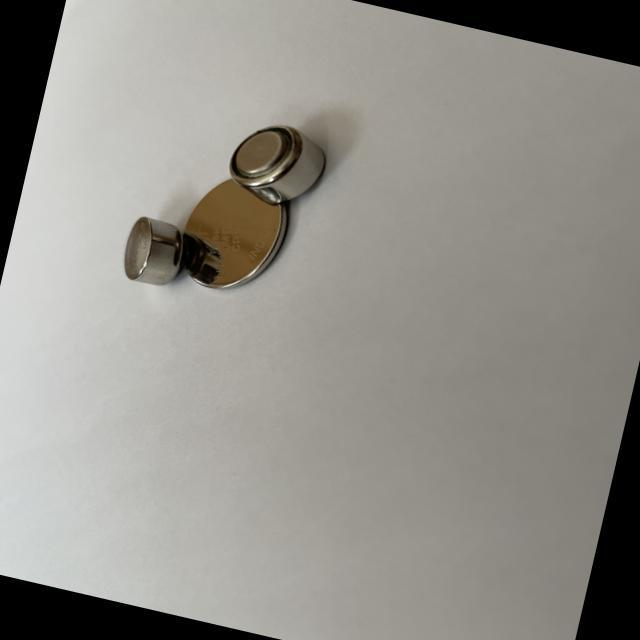COIN: (173, 166, 297, 303), (224, 114, 333, 212), (118, 211, 190, 289)
